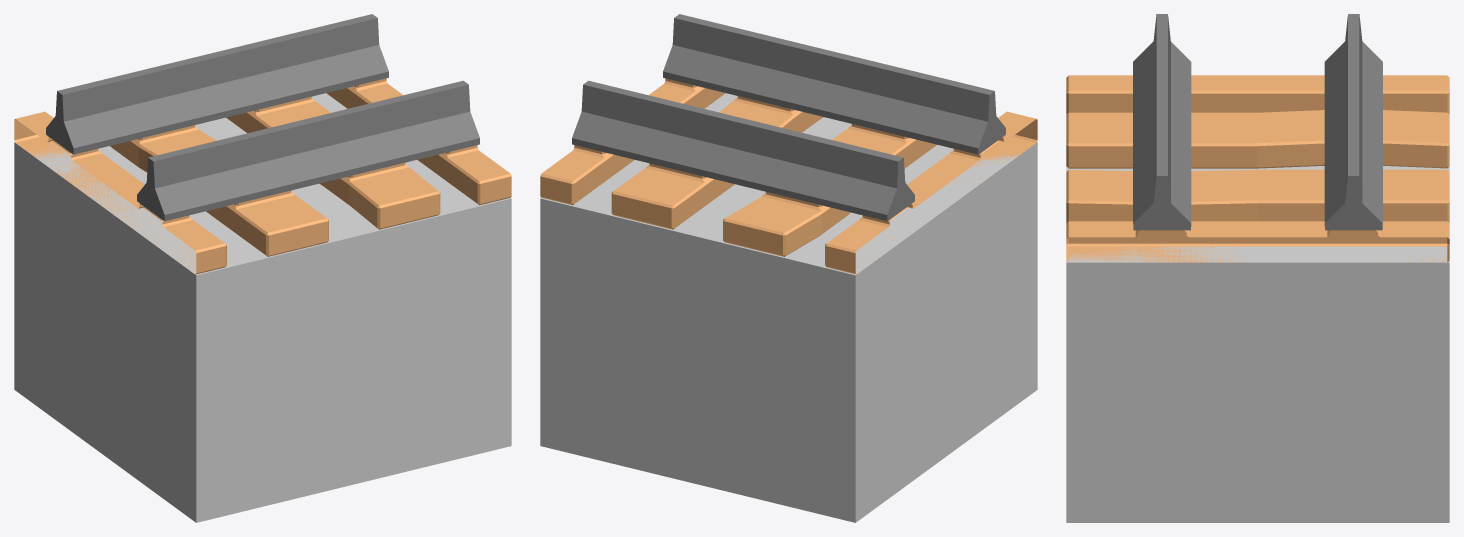
The model's file is Rail_Classique.fbx.
3 views of the same model, side by side, from view 1: azimuth 30°, elevation 25°; view 2: azimuth 150°, elevation 25°; view 3: azimuth 270°, elevation 25° (orthographic). The views are drawn at different scales.
Visible parts, largest first — view 1: Rail Classique; view 2: Rail Classique; view 3: Rail Classique.
Part boxes in pixels (box(x1,y1,x2,y2)): Rail Classique: box(14, 14, 511, 522); Rail Classique: box(540, 14, 1037, 522); Rail Classique: box(1066, 14, 1449, 522).
Size of the model in its own units: 100 by 100 by 100.
